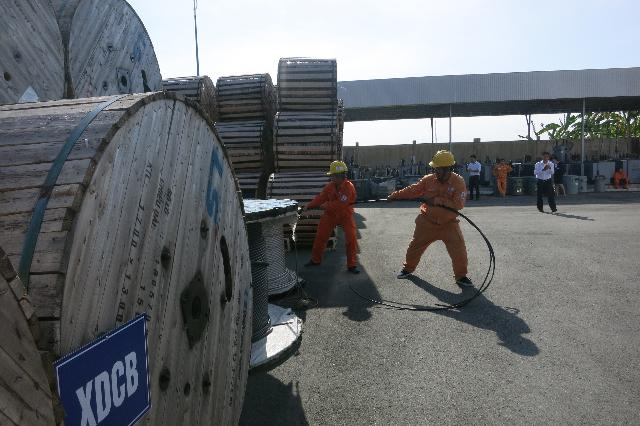helmet: (429, 144, 460, 171), (326, 161, 353, 175)
shoes: (395, 264, 418, 281), (455, 273, 476, 290), (304, 255, 321, 269), (347, 263, 362, 276)
